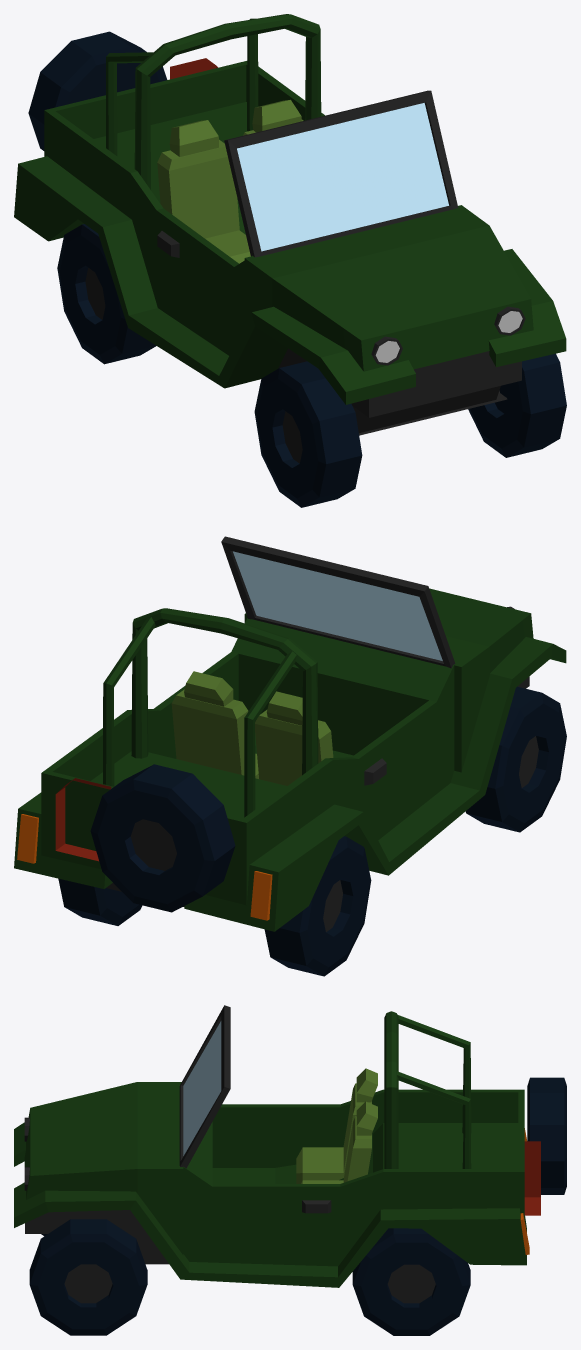
Rendered from military_jeep.glb.
The picture shows the model from 3 angles, top to bottom: view 1: azimuth 30°, elevation 25°; view 2: azimuth 150°, elevation 25°; view 3: azimuth 270°, elevation 25°; orthographic projection. The views are drawn at different scales.
Visible parts, largest first — view 1: Jeep; view 2: Jeep; view 3: Jeep.
Part boxes in pixels (x1,y1,x2,y2): Jeep: (14, 14, 566, 507); Jeep: (14, 536, 566, 976); Jeep: (14, 1005, 566, 1335).
Size of the model in its own units: 2.04 by 2.33 by 4.56.
